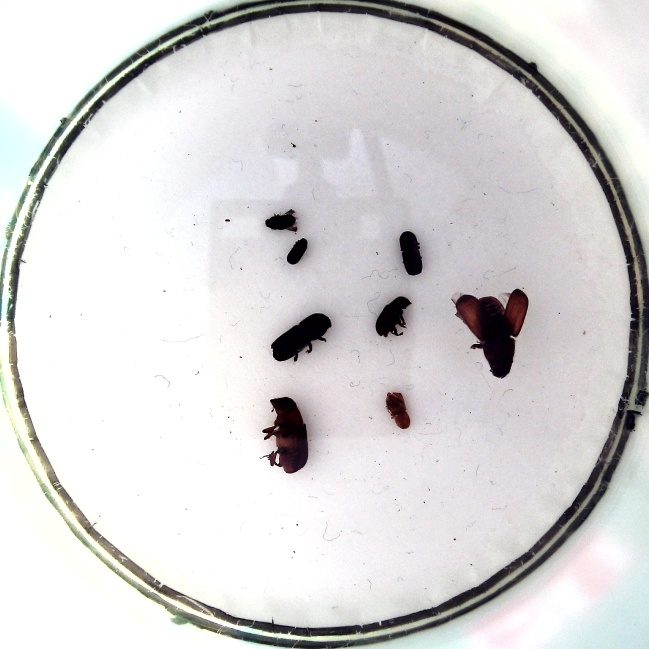acuminatus: (265, 215, 296, 229)
armandi: (374, 296, 411, 337)
boerner: (270, 313, 331, 362)
coleoptera: (385, 392, 411, 429), (286, 238, 307, 265)
leconte: (477, 296, 516, 379), (269, 395, 308, 473)
linnaeus: (399, 231, 422, 275)
